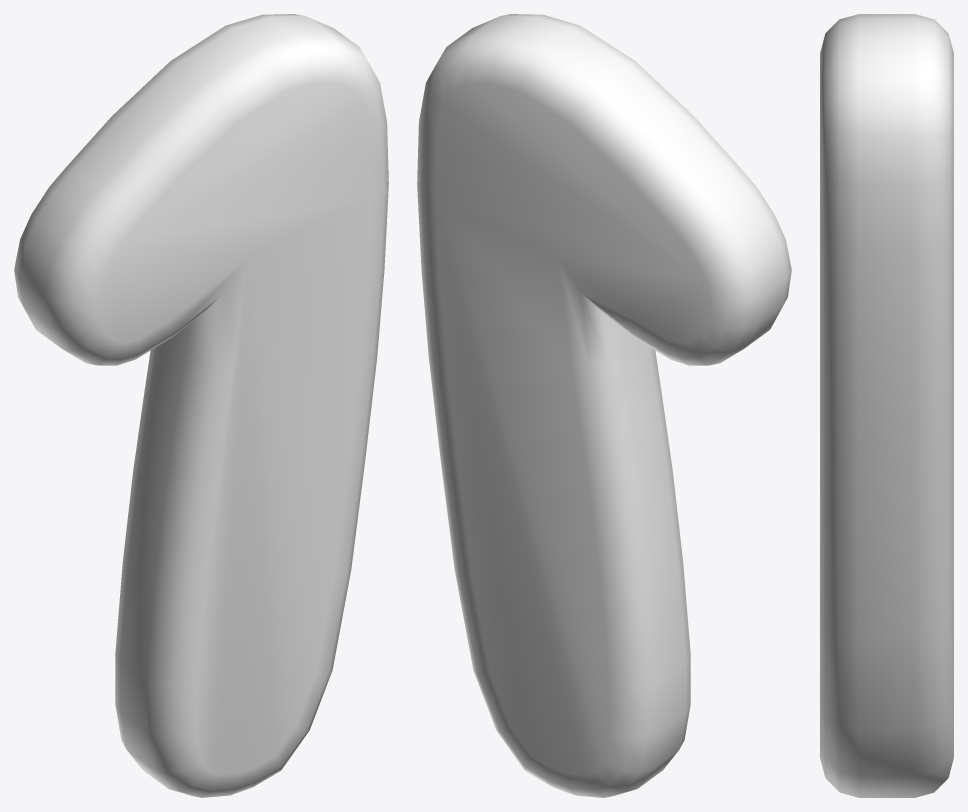
Rendered from NumberOne 2.fbx.
3 views of the same model, side by side, from view 1: azimuth 30°, elevation 25°; view 2: azimuth 150°, elevation 25°; view 3: azimuth 270°, elevation 25° (orthographic). The views are drawn at different scales.
Visible parts, largest first — view 1: Vert.024; view 2: Vert.024; view 3: Vert.024.
Part boxes in pixels (bbox=[...]): Vert.024: bbox=[14, 14, 388, 797]; Vert.024: bbox=[417, 14, 791, 797]; Vert.024: bbox=[820, 14, 953, 797].
Bounding box in the file's own units: 217 × 451 × 69.56.
